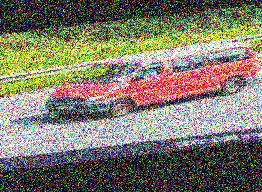van: (34, 22, 262, 138)
